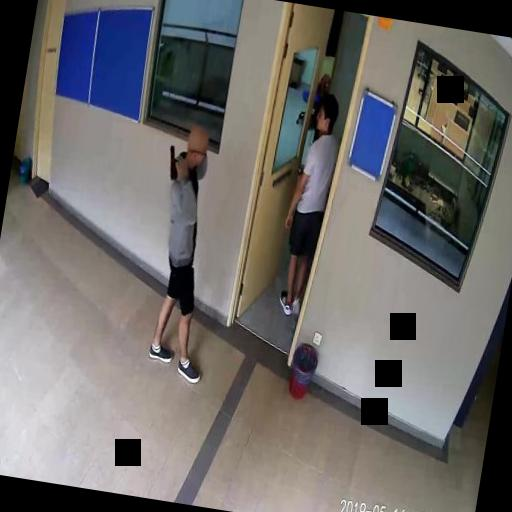Handgun: (164, 142, 186, 180)
